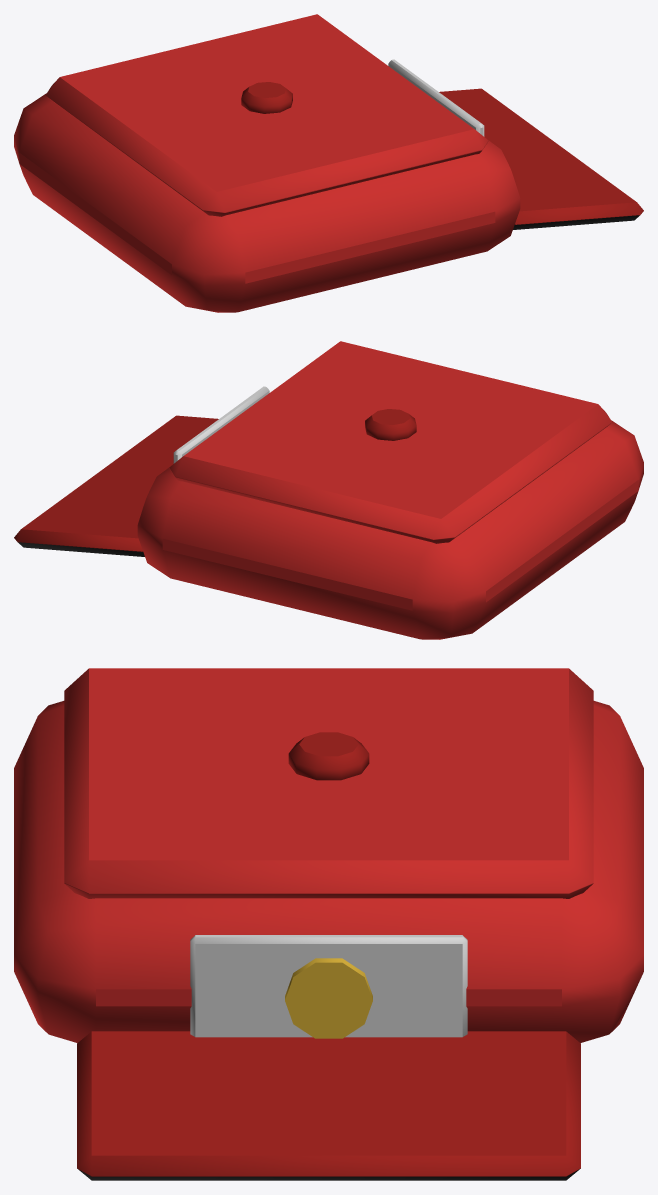
File: hat-cap_red.glb
3 views of the same model, one above another, from view 1: azimuth 30°, elevation 25°; view 2: azimuth 150°, elevation 25°; view 3: azimuth 270°, elevation 25° (orthographic). The views are drawn at different scales.
Visible parts, largest first — view 1: Hat; view 2: Hat; view 3: Hat.
Boxes of the visible parts, box(x1,y1,x2,y2) form: Hat: box(14, 14, 643, 312); Hat: box(14, 341, 643, 639); Hat: box(14, 668, 643, 1180).
Bounding box in the file's own units: 0.6588 × 0.1932 × 0.5.
